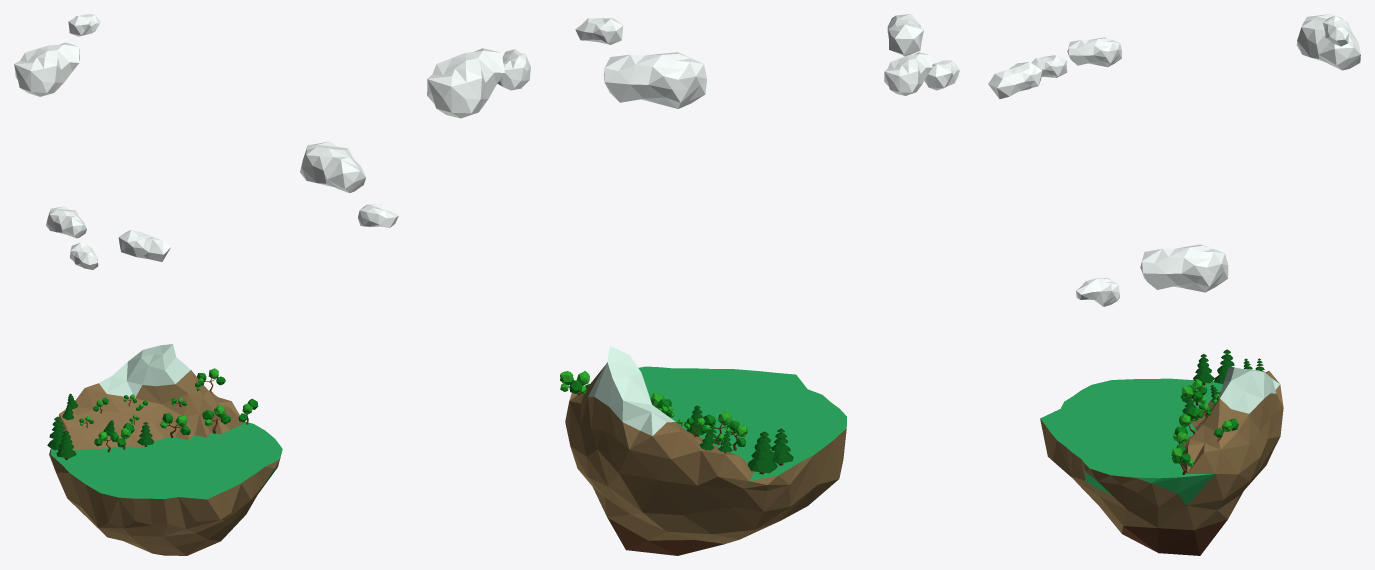
The model's file is Rand02_Fracture.fbx.
3 views of the same model, side by side, from view 1: azimuth 30°, elevation 25°; view 2: azimuth 150°, elevation 25°; view 3: azimuth 270°, elevation 25° (orthographic). The views are drawn at different scales.
Visible parts, largest first — view 1: Rand02, Cloud, Icosphere_cell.175, Icosphere_cell.054, Icosphere_cell.020, Icosphere_cell.152, Icosphere_cell.102, Icosphere_cell.151, Icosphere_cell.131, Icosphere_cell.219, Icosphere_cell.196, Icosphere_cell.125 (+3 smaller); view 2: Rand02, Cloud, Icosphere_cell.038, Icosphere_cell.167, Icosphere_cell.090, Icosphere_cell.075, Icosphere_cell.235, Icosphere_cell.048, Icosphere_cell.175, Icosphere_cell.054, Tree. 002.005, Icosphere_cell.066 (+2 smaller); view 3: Rand02, Cloud, Icosphere_cell.233, Icosphere_cell.054, Icosphere_cell.182, Icosphere_cell.102, Icosphere_cell.175, Icosphere_cell.090, Icosphere_cell.144.
Part boxes in pixels (x1=…): Rand02: x1=49, y1=344, x2=282, y2=555; Cloud: x1=14, y1=14, x2=398, y2=269; Icosphere_cell.175: x1=95, y1=477, x2=145, y2=521; Icosphere_cell.054: x1=172, y1=478, x2=226, y2=521; Icosphere_cell.020: x1=143, y1=483, x2=179, y2=524; Icosphere_cell.152: x1=84, y1=467, x2=147, y2=514; Icosphere_cell.102: x1=216, y1=473, x2=271, y2=511; Icosphere_cell.151: x1=103, y1=515, x2=140, y2=543; Icosphere_cell.131: x1=136, y1=519, x2=165, y2=542; Icosphere_cell.219: x1=87, y1=387, x2=121, y2=416; Icosphere_cell.196: x1=169, y1=358, x2=196, y2=388; Icosphere_cell.125: x1=122, y1=455, x2=177, y2=474; Rand02: x1=567, y1=366, x2=846, y2=555; Cloud: x1=427, y1=14, x2=959, y2=118; Icosphere_cell.038: x1=719, y1=499, x2=797, y2=536; Icosphere_cell.167: x1=616, y1=487, x2=682, y2=529; Icosphere_cell.090: x1=660, y1=368, x2=738, y2=387; Icosphere_cell.075: x1=719, y1=488, x2=773, y2=511; Icosphere_cell.235: x1=652, y1=455, x2=681, y2=489; Icosphere_cell.048: x1=589, y1=437, x2=621, y2=490; Icosphere_cell.175: x1=779, y1=405, x2=846, y2=454; Icosphere_cell.054: x1=750, y1=371, x2=803, y2=399; Tree. 002.005: x1=747, y1=431, x2=777, y2=474; Icosphere_cell.066: x1=685, y1=447, x2=716, y2=491; Rand02: x1=1040, y1=367, x2=1283, y2=555; Cloud: x1=988, y1=14, x2=1360, y2=306; Icosphere_cell.233: x1=1085, y1=457, x2=1149, y2=494; Icosphere_cell.054: x1=1040, y1=409, x2=1102, y2=443; Icosphere_cell.182: x1=1145, y1=471, x2=1179, y2=507; Icosphere_cell.102: x1=1049, y1=430, x2=1106, y2=485; Icosphere_cell.175: x1=1076, y1=379, x2=1121, y2=405; Icosphere_cell.090: x1=1056, y1=439, x2=1113, y2=465; Icosphere_cell.144: x1=1141, y1=378, x2=1181, y2=403.
Bounding box in the file's own units: 3336 × 4474 × 2929.
